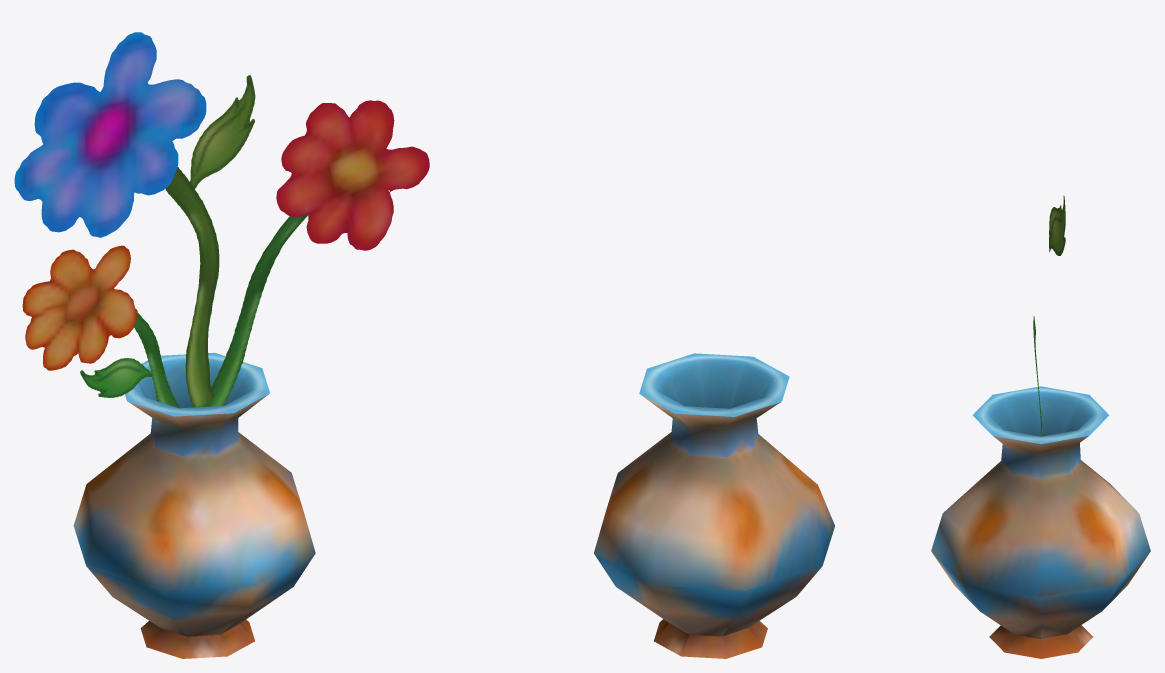
Rendered from vaseC_short.glb.
The picture shows the model from 3 angles, left to right: view 1: azimuth 30°, elevation 25°; view 2: azimuth 150°, elevation 25°; view 3: azimuth 270°, elevation 25°; orthographic projection. The views are drawn at different scales.
Parts seen in each view (by area): view 1: vaseCshort, pPlane7, pPlane17, pPlane6, pPlane9, pPlane16, pPlane11, pPlane18, pPlane13; view 2: vaseCshort; view 3: vaseCshort, pPlane11.
Boxes of the visible parts, <box> form: vaseCshort: <box>73,352,315,658</box>; pPlane7: <box>14,32,206,237</box>; pPlane17: <box>276,100,429,250</box>; pPlane6: <box>22,245,137,370</box>; pPlane9: <box>165,167,219,407</box>; pPlane16: <box>204,214,308,406</box>; pPlane11: <box>190,75,255,188</box>; pPlane18: <box>80,358,151,397</box>; pPlane13: <box>134,313,179,408</box>; vaseCshort: <box>594,353,834,658</box>; vaseCshort: <box>931,386,1150,658</box>; pPlane11: <box>1049,195,1065,255</box>.
Size of the model in its own units: 0.8243 by 1.14 by 0.4183.
6 materials, 6 textured.
